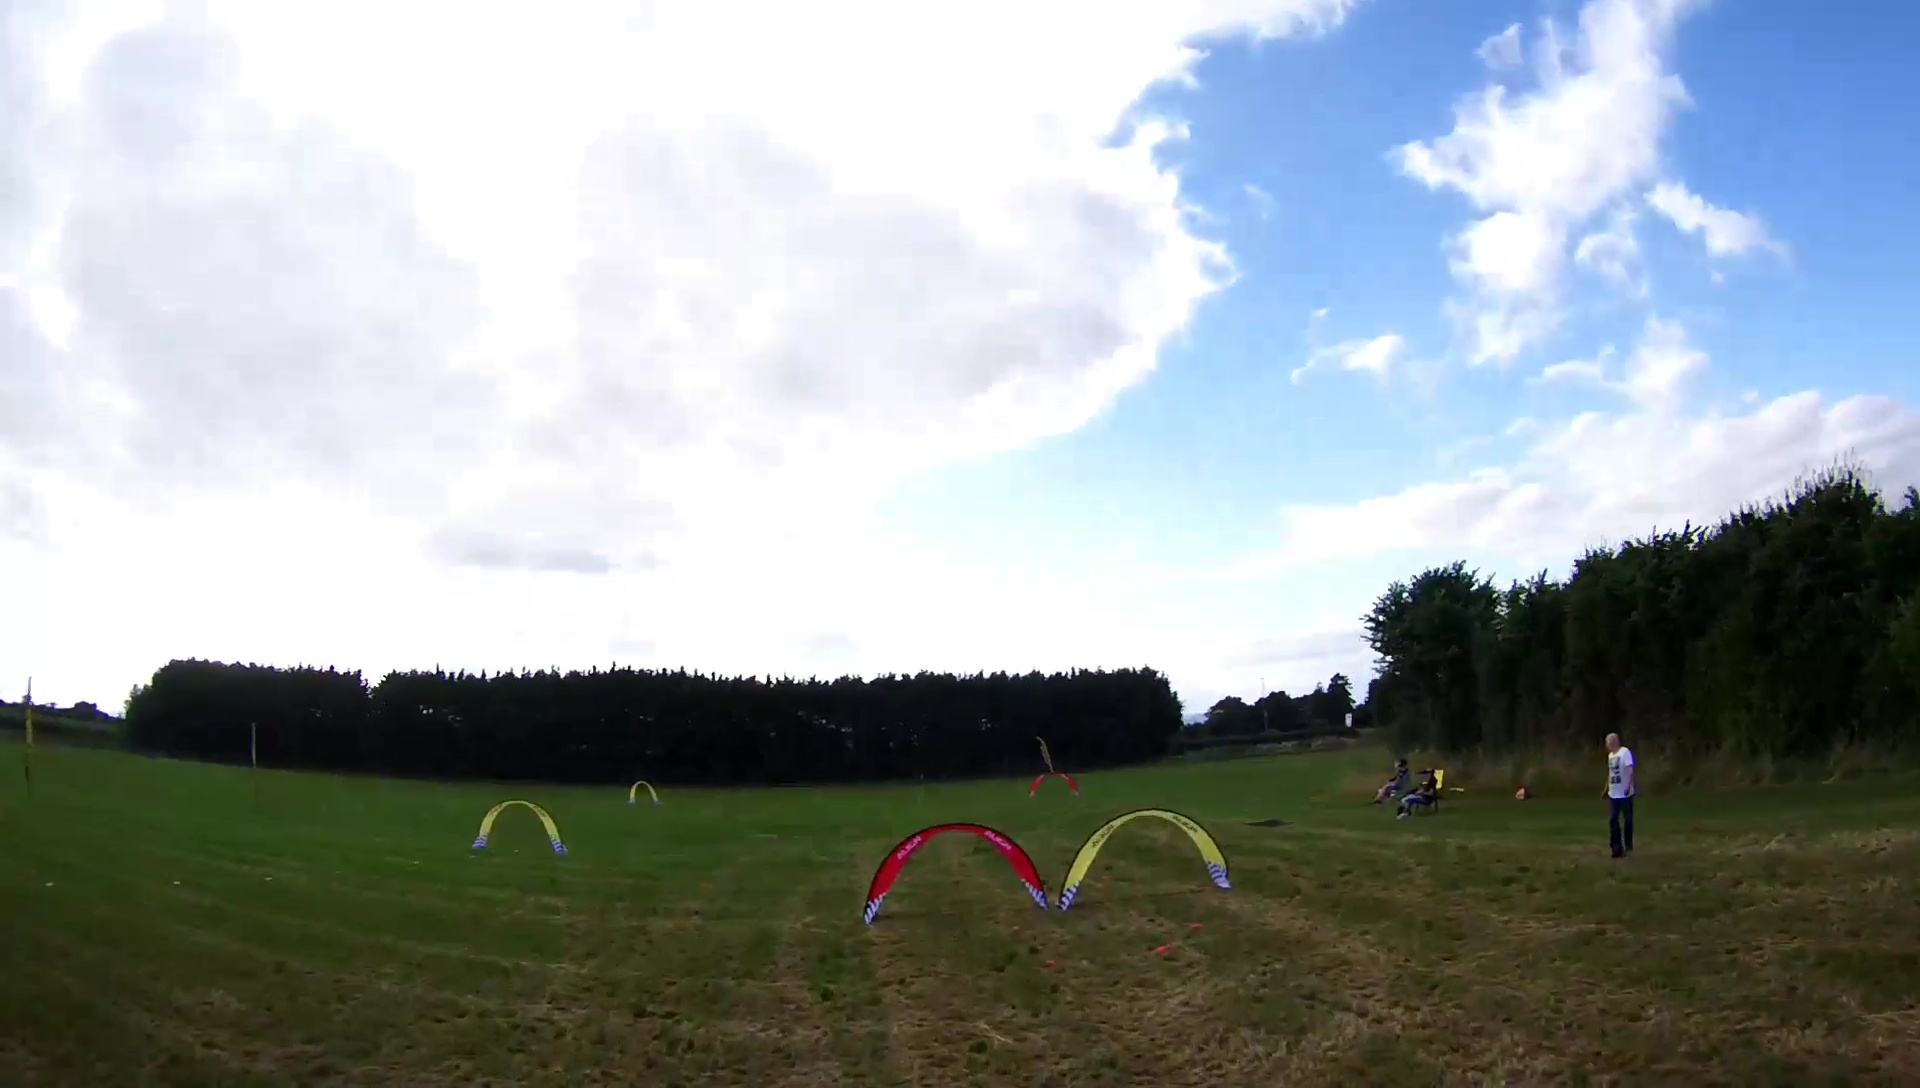gate: (860, 822, 1047, 928), (1056, 804, 1236, 911), (468, 801, 571, 855), (1027, 769, 1081, 802), (625, 779, 663, 807)
